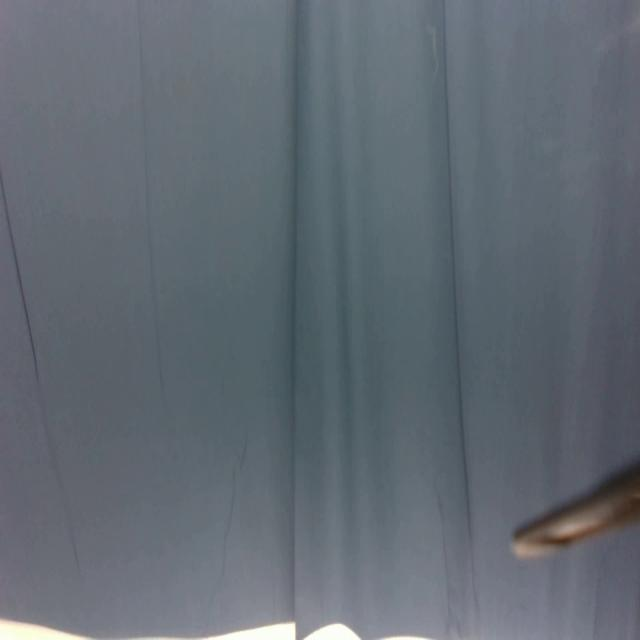crease: (1, 172, 80, 570), (440, 0, 480, 615), (136, 0, 164, 395), (290, 0, 302, 638)
